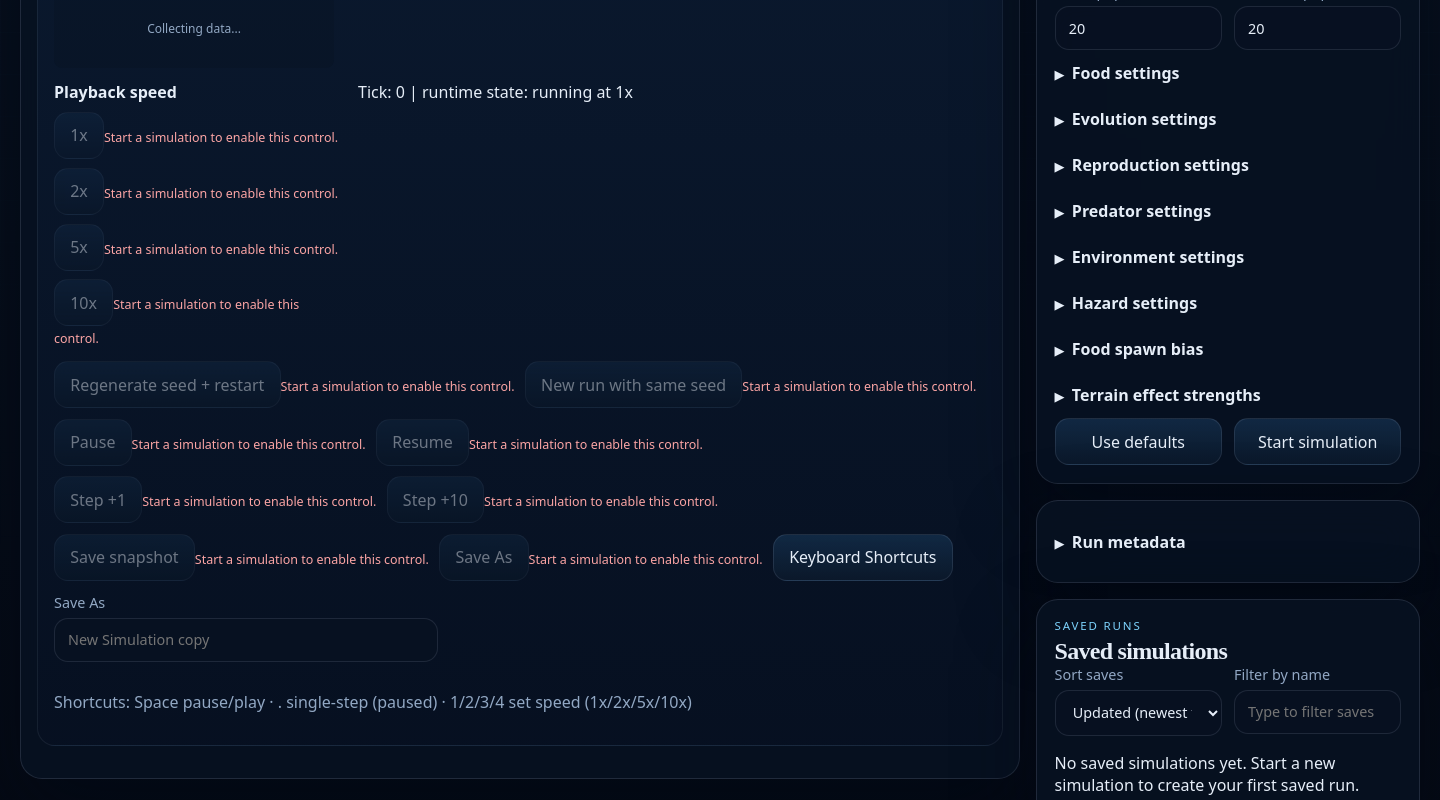
Test case: App › renders terrain effect strength controls with default values (SSN-291)
(page scrolled)
// Expand the terrain effect strengths section
Click the heading "Terrain effect strengths".
click(1166, 395)  # box [1072,384,1261,406]
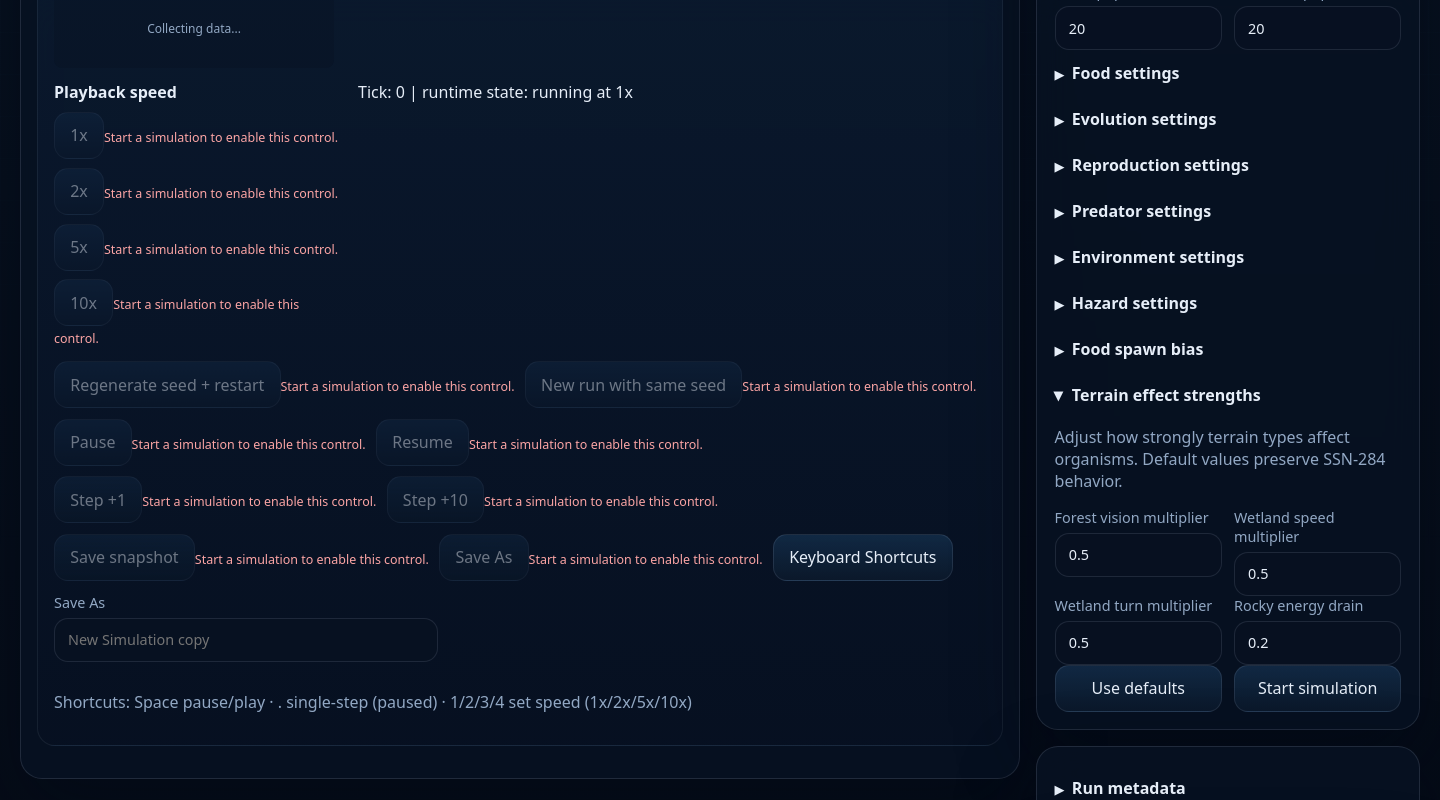
Expected: the number field labelled "Forest vision multiplier" holds "0.5", [1055,533,1222,577]
Expected: the number field labelled "Wetland speed multiplier" holds "0.5", [1234,552,1401,596]
Expected: the number field labelled "Wetland turn multiplier" holds "0.5", [1055,620,1222,664]
